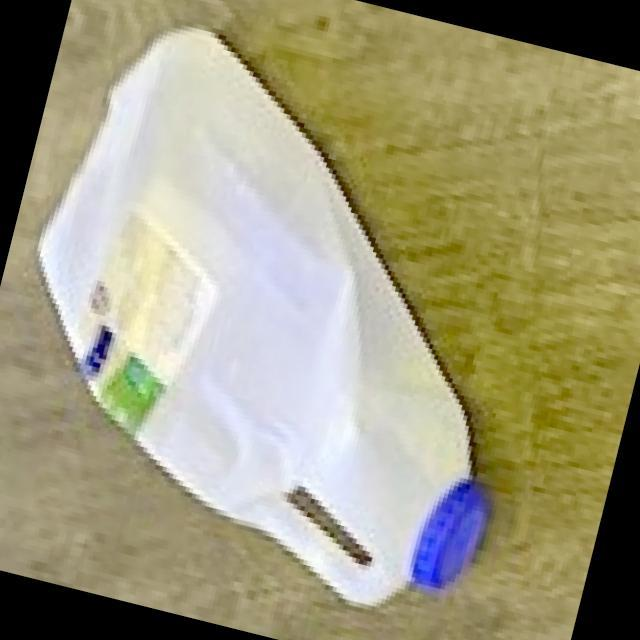HDPE Plastic: (32, 23, 492, 611)
